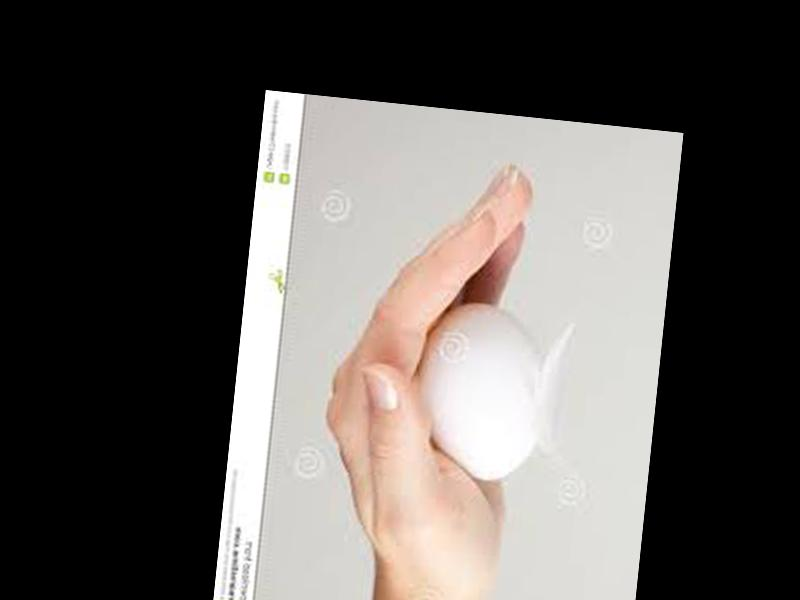Eggs: (409, 295, 549, 486)
